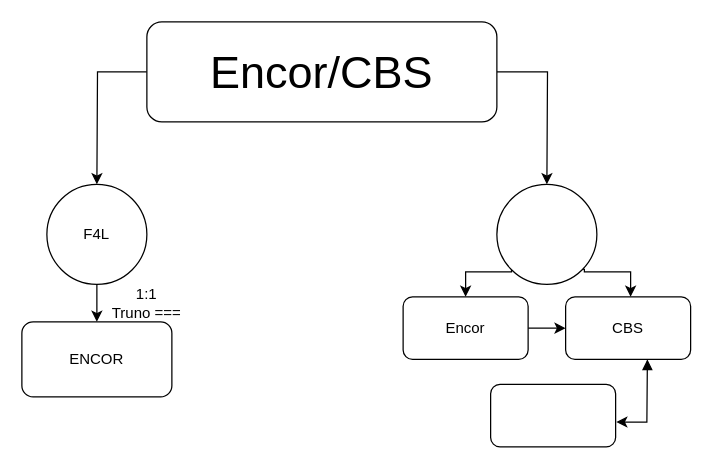
Some shapes in this 713 by 469 pixel diagram are drawn without their labels. The centre of each missing label's shape, as x and y in pixels:
"RSM" goes at pixel 546 233.
"Truno" goes at pixel 552 415.
